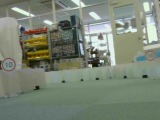speed_10: (2, 57, 16, 72)
